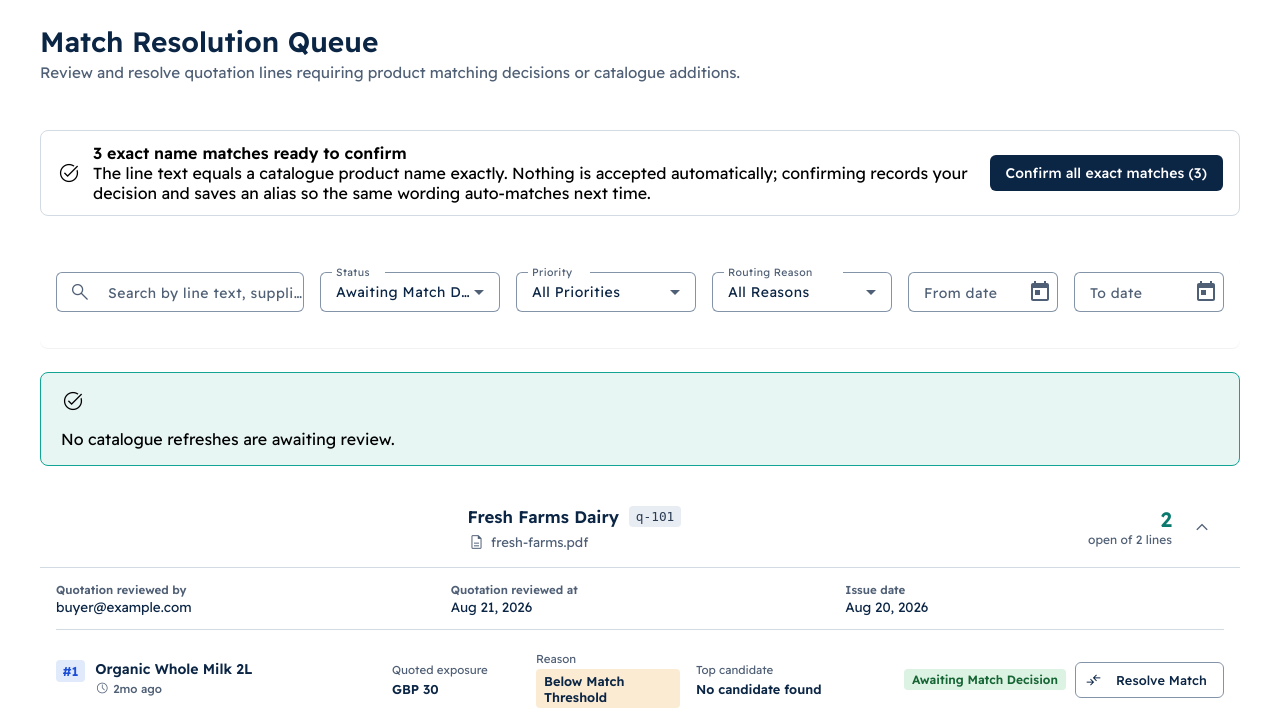
it: ResolutionQueueComponent › should collapse and expand a quotation group from its header toggle
Click the button with class "group-toggle": point(1202, 526) [1184, 508, 1220, 544]
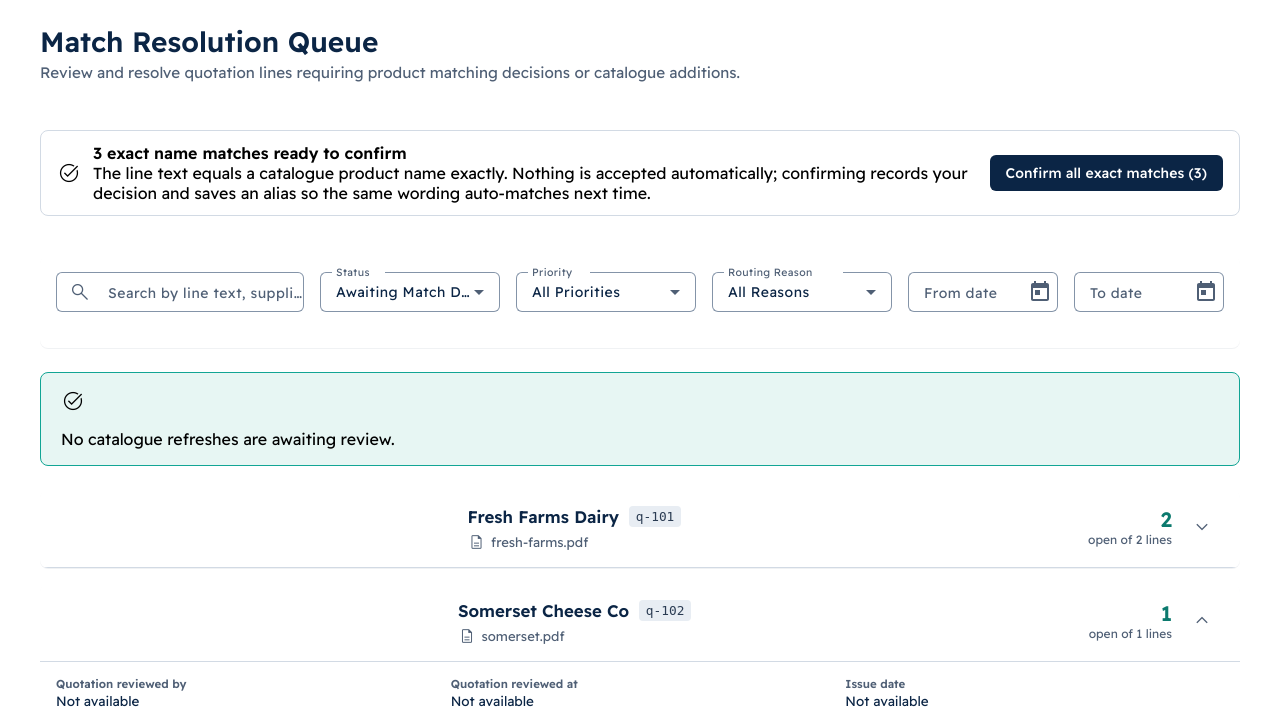
Check: the button with class "group-toggle" is collapsed
Click the 1st button with class "group-toggle": point(1202, 526) [1184, 508, 1220, 544]
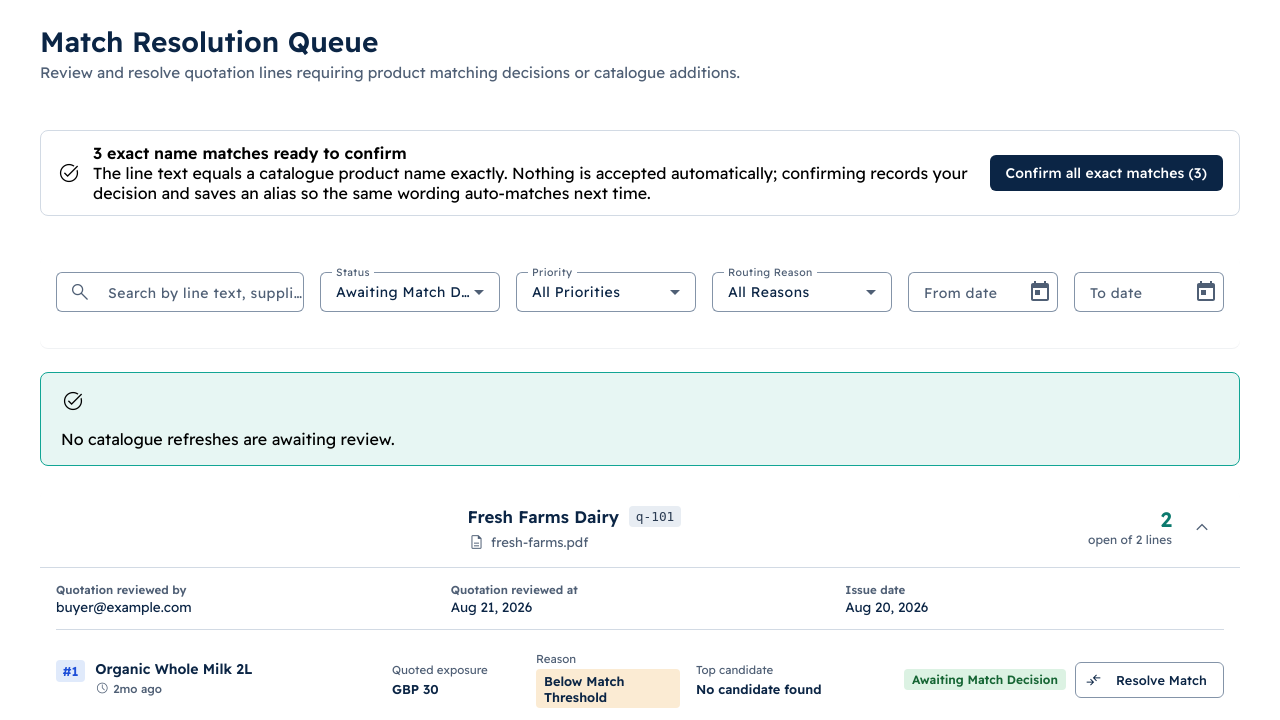
Check: the button with class "group-toggle" is expanded, box [1184, 508, 1220, 544]
